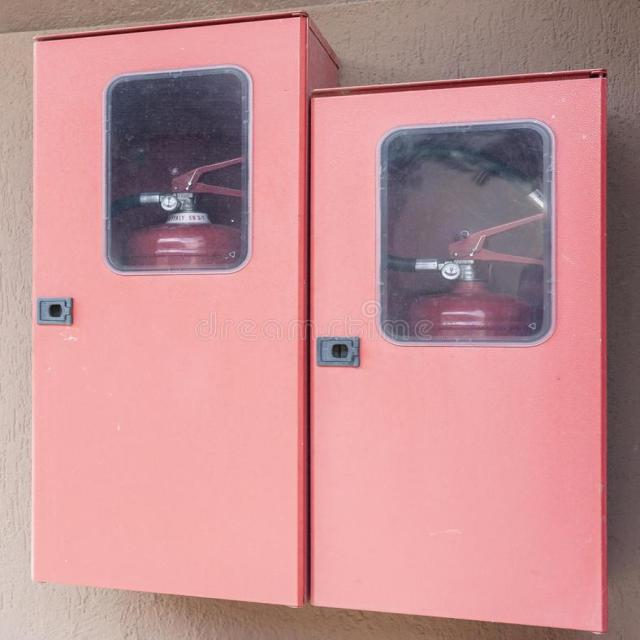fire_extinguisher: (342, 137, 568, 600), (101, 147, 278, 578)
